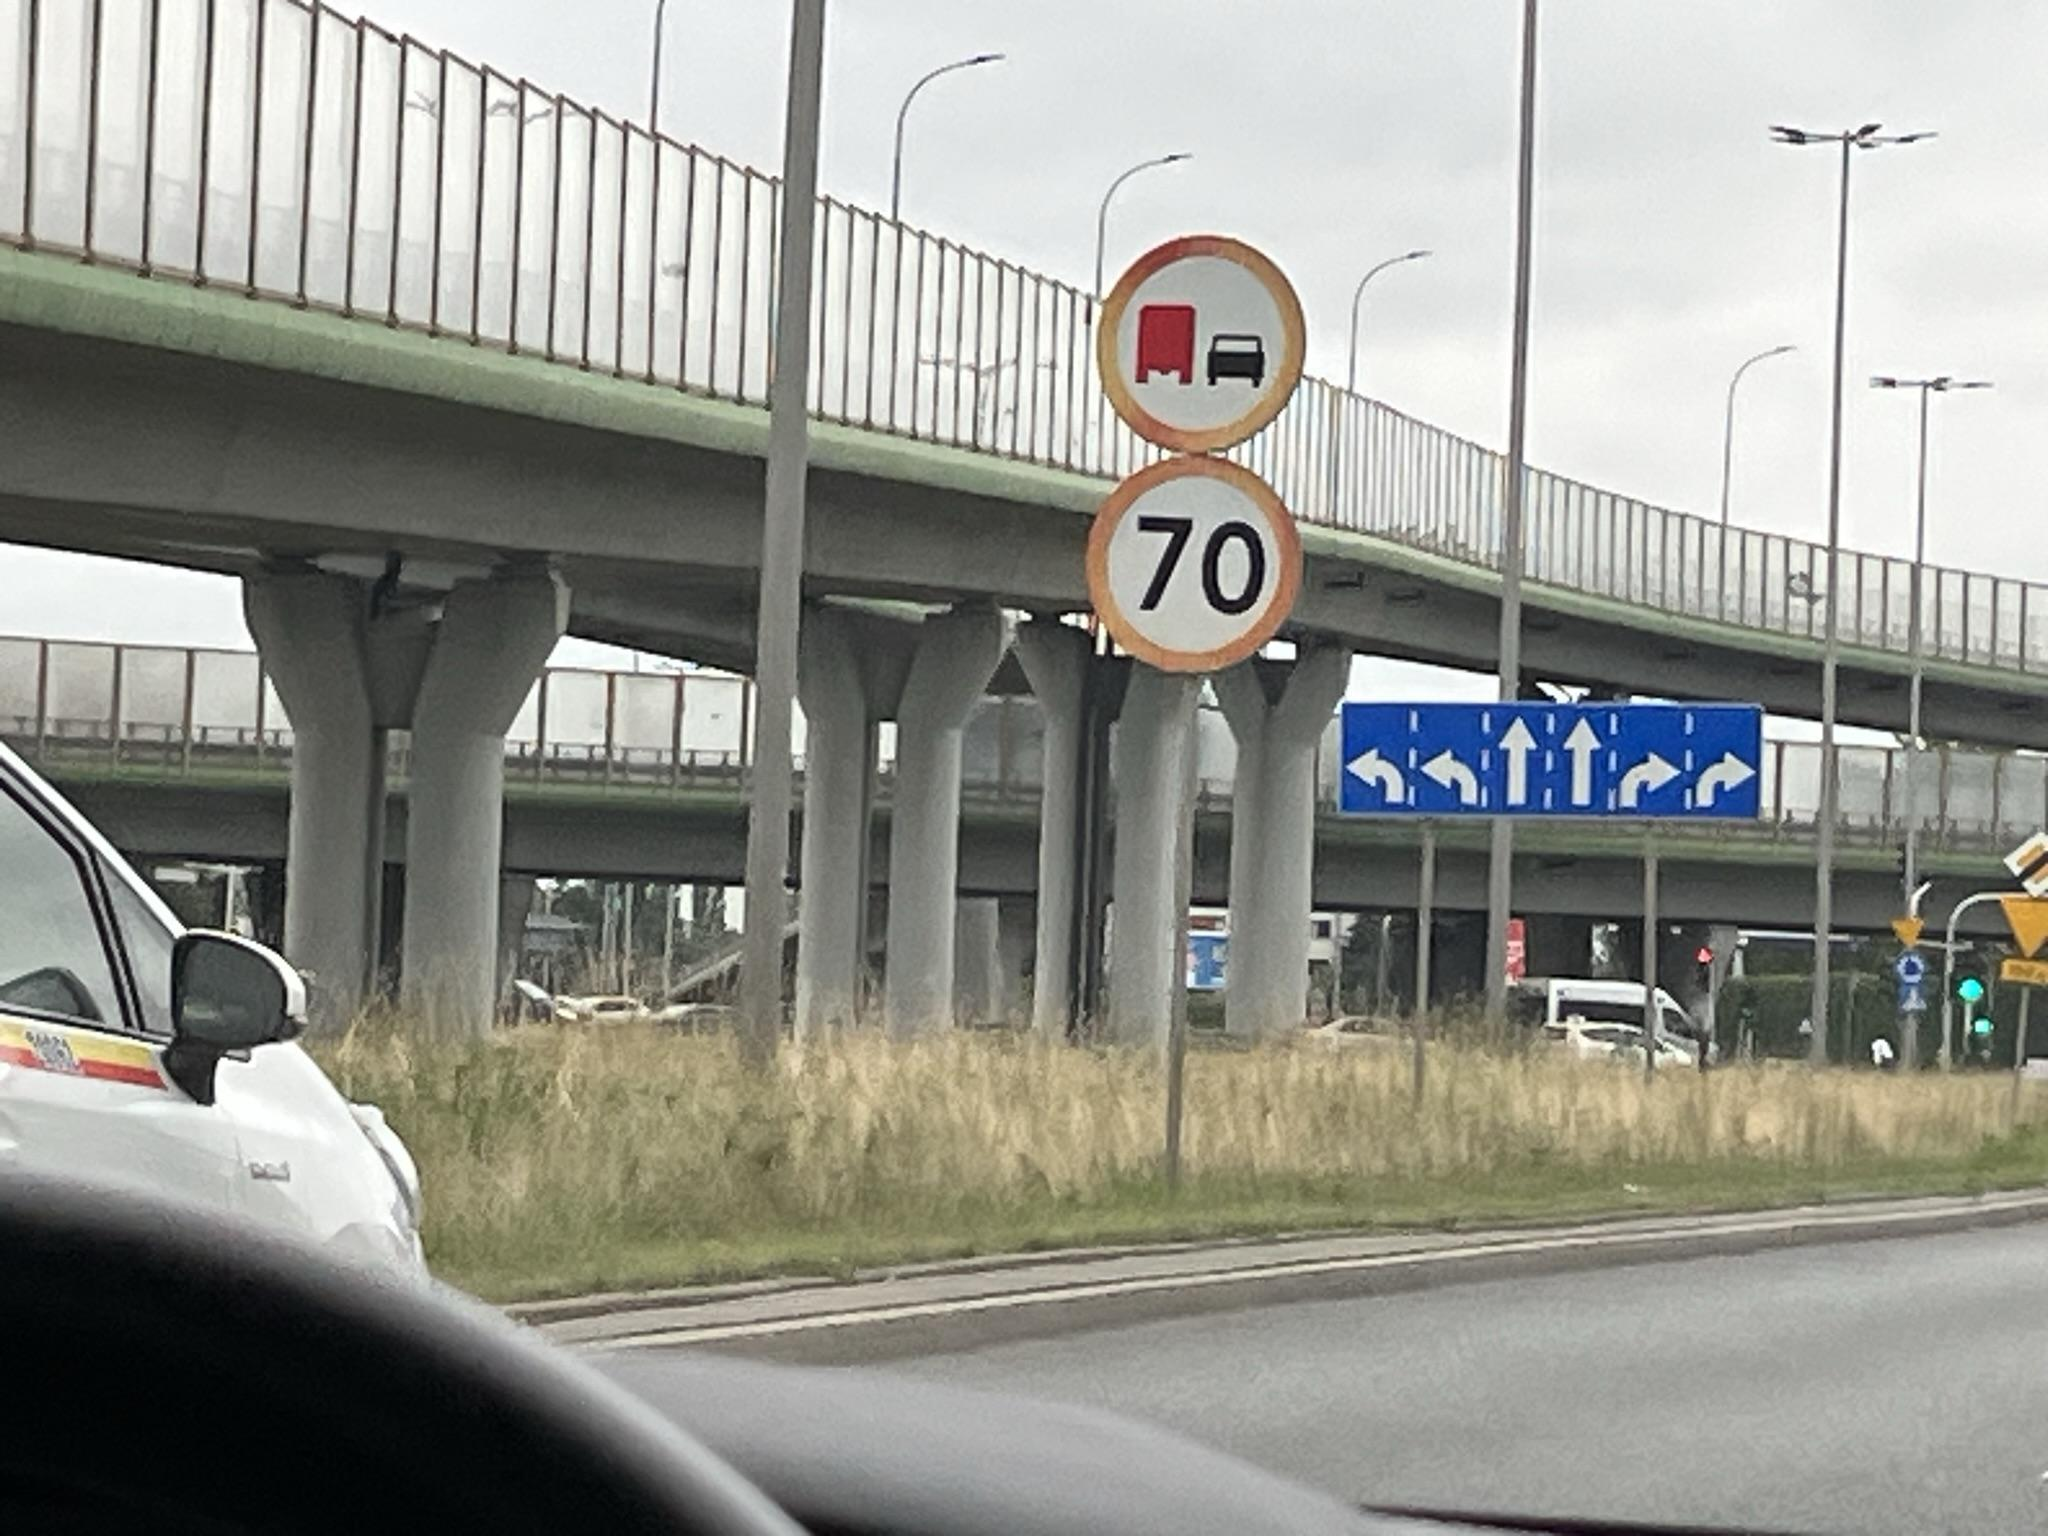information: (2004, 831, 2048, 895), (1898, 987, 1929, 1013)
mandatory: (1895, 954, 1925, 986)
other: (1340, 700, 1766, 821), (2001, 962, 2048, 986)
prohibitory: (1085, 453, 1301, 678), (1093, 234, 1308, 453)
warning: (1998, 897, 2048, 957), (1892, 918, 1927, 950)
